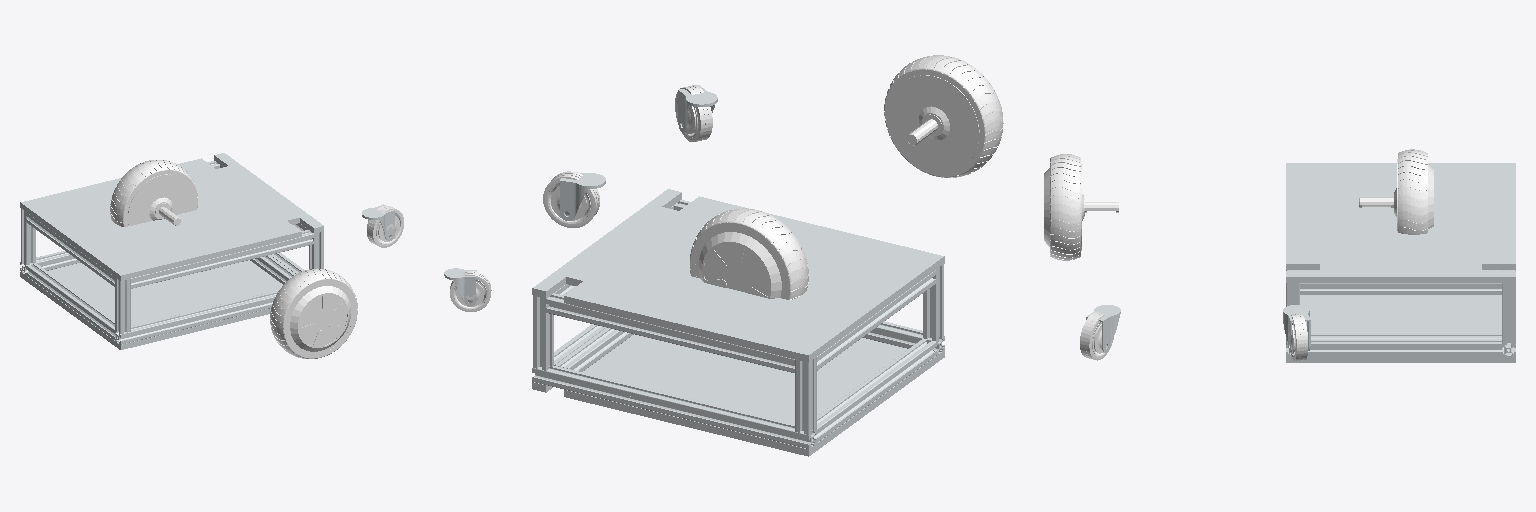
URDF robot description (blattoidea):
<?xml version="1.0" encoding="utf-8"?>
<!-- This URDF was automatically created by SolidWorks to URDF Exporter! Originally created by [author] ([email redacted]) 
     Commit Version: 1.5.1-0-g916b5db  Build Version: 1.5.7152.31018
     For more information, please see http://wiki.ros.org/sw_urdf_exporter -->
<robot
  name="blattoidea">
  <link
    name="base_link">
    <inertial>
      <origin
        xyz="0.14853 0.15935 0.29554"
        rpy="0 0 0" />
      <mass
        value="3.6045" />
      <inertia
        ixx="0.03397"
        ixy="-7.1688E-17"
        ixz="-7.1044E-18"
        iyy="0.080968"
        iyz="4.034E-18"
        izz="0.047057" />
    </inertial>
    <visual>
      <origin
        xyz="0 0 0"
        rpy="0 0 0" />
      <geometry>
        <mesh
          filename="package://blattoidea/meshes/base_link.STL" />
      </geometry>
      <material
        name="">
        <color
          rgba="0.89804 0.91765 0.92941 1" />
      </material>
    </visual>
    <collision>
      <origin
        xyz="0 0 0"
        rpy="0 0 0" />
      <geometry>
        <mesh
          filename="package://blattoidea/meshes/base_link.STL" />
      </geometry>
    </collision>
  </link>
  <link
    name="lw_Link">
    <inertial>
      <origin
        xyz="0.080855 -4.3044E-06 -5.8722E-06"
        rpy="0 0 0" />
      <mass
        value="0.97717" />
      <inertia
        ixx="0.0027567"
        ixy="-2.3115E-07"
        ixz="-3.1534E-07"
        iyy="0.0016171"
        iyz="1.6994E-08"
        izz="0.0016171" />
    </inertial>
    <visual>
      <origin
        xyz="0 0 0"
        rpy="0 0 0" />
      <geometry>
        <mesh
          filename="package://blattoidea/meshes/lw_Link.STL" />
      </geometry>
      <material
        name="">
        <color
          rgba="1 1 1 1" />
      </material>
    </visual>
    <collision>
      <origin
        xyz="0 0 0"
        rpy="0 0 0" />
      <geometry>
        <mesh
          filename="package://blattoidea/meshes/lw_Link.STL" />
      </geometry>
    </collision>
  </link>
  <joint
    name="lw_joint"
    type="continuous">
    <origin
      xyz="-0.0066026 -0.41814 0.15635"
      rpy="-2.8253 0 -1.5708" />
    <parent
      link="base_link" />
    <child
      link="lw_Link" />
    <axis
      xyz="1 0 0" />
  </joint>
  <link
    name="rw_Link">
    <inertial>
      <origin
        xyz="-0.030145 -6.8522E-14 -7.2809E-06"
        rpy="0 0 0" />
      <mass
        value="0.97717" />
      <inertia
        ixx="0.0027567"
        ixy="-1.0364E-14"
        ixz="-3.9098E-07"
        iyy="0.001617"
        iyz="4.59E-16"
        izz="0.0016171" />
    </inertial>
    <visual>
      <origin
        xyz="0 0 0"
        rpy="0 0 0" />
      <geometry>
        <mesh
          filename="package://blattoidea/meshes/rw_Link.STL" />
      </geometry>
      <material
        name="">
        <color
          rgba="1 1 1 1" />
      </material>
    </visual>
    <collision>
      <origin
        xyz="0 0 0"
        rpy="0 0 0" />
      <geometry>
        <mesh
          filename="package://blattoidea/meshes/rw_Link.STL" />
      </geometry>
    </collision>
  </link>
  <joint
    name="rw_joint"
    type="continuous">
    <origin
      xyz="-0.022603 -0.061936 0.15635"
      rpy="2.5982 0 1.5708" />
    <parent
      link="base_link" />
    <child
      link="rw_Link" />
    <axis
      xyz="1 0 0" />
  </joint>
  <link
    name="r_caster_Link">
    <inertial>
      <origin
        xyz="-1.9082E-08 0.042334 0.01609"
        rpy="0 0 0" />
      <mass
        value="0.026461" />
      <inertia
        ixx="1.1218E-05"
        ixy="6.255E-12"
        ixz="-3.2391E-12"
        iyy="9.1178E-06"
        iyz="2.5189E-06"
        izz="1.0862E-05" />
    </inertial>
    <visual>
      <origin
        xyz="0 0 0"
        rpy="0 0 0" />
      <geometry>
        <mesh
          filename="package://blattoidea/meshes/r_caster_Link.STL" />
      </geometry>
      <material
        name="">
        <color
          rgba="0.89804 0.91765 0.92941 1" />
      </material>
    </visual>
    <collision>
      <origin
        xyz="0 0 0"
        rpy="0 0 0" />
      <geometry>
        <mesh
          filename="package://blattoidea/meshes/r_caster_Link.STL" />
      </geometry>
    </collision>
  </link>
  <joint
    name="r_caster_joint"
    type="continuous">
    <origin
      xyz="0.3079 -0.15554 0.089119"
      rpy="1.5182 0 1.7592" />
    <parent
      link="base_link" />
    <child
      link="r_caster_Link" />
    <axis
      xyz="0 1 0" />
  </joint>
  <link
    name="rc_wheel_Link">
    <inertial>
      <origin
        xyz="-0.002 -3.7192E-15 -7.4385E-15"
        rpy="0 0 0" />
      <mass
        value="0.0499" />
      <inertia
        ixx="3.5408E-05"
        ixy="-9.8891E-20"
        ixz="-9.3385E-20"
        iyy="1.8462E-05"
        iyz="1.5617E-21"
        izz="1.8462E-05" />
    </inertial>
    <visual>
      <origin
        xyz="0 0 0"
        rpy="0 0 0" />
      <geometry>
        <mesh
          filename="package://blattoidea/meshes/rc_wheel_Link.STL" />
      </geometry>
      <material
        name="">
        <color
          rgba="1 1 1 1" />
      </material>
    </visual>
    <collision>
      <origin
        xyz="0 0 0"
        rpy="0 0 0" />
      <geometry>
        <mesh
          filename="package://blattoidea/meshes/rc_wheel_Link.STL" />
      </geometry>
    </collision>
  </link>
  <joint
    name="rc_wheel_joint"
    type="continuous">
    <origin
      xyz="-0.002 0.010904 0.025608"
      rpy="2.3039 0 3.1416" />
    <parent
      link="r_caster_Link" />
    <child
      link="rc_wheel_Link" />
    <axis
      xyz="1 0 0" />
  </joint>
  <link
    name="l_caster_Link">
    <inertial>
      <origin
        xyz="-1.597E-08 0.042334 0.01609"
        rpy="0 0 0" />
      <mass
        value="0.026461" />
      <inertia
        ixx="1.1218E-05"
        ixy="3.1588E-12"
        ixz="-6.9764E-13"
        iyy="9.1178E-06"
        iyz="2.5189E-06"
        izz="1.0862E-05" />
    </inertial>
    <visual>
      <origin
        xyz="0 0 0"
        rpy="0 0 0" />
      <geometry>
        <mesh
          filename="package://blattoidea/meshes/l_caster_Link.STL" />
      </geometry>
      <material
        name="">
        <color
          rgba="0.89804 0.91765 0.92941 1" />
      </material>
    </visual>
    <collision>
      <origin
        xyz="0 0 0"
        rpy="0 0 0" />
      <geometry>
        <mesh
          filename="package://blattoidea/meshes/l_caster_Link.STL" />
      </geometry>
    </collision>
  </link>
  <joint
    name="l_caster_joint"
    type="continuous">
    <origin
      xyz="0.3079 -0.43554 0.089119"
      rpy="1.5182 0 1.0025" />
    <parent
      link="base_link" />
    <child
      link="l_caster_Link" />
    <axis
      xyz="0 1 0" />
  </joint>
  <link
    name="lc_wheel_Link">
    <inertial>
      <origin
        xyz="-0.002 0 -4.1633E-17"
        rpy="0 0 0" />
      <mass
        value="0.0499" />
      <inertia
        ixx="3.5408E-05"
        ixy="2.8799E-20"
        ixz="-1.9058E-21"
        iyy="1.8462E-05"
        iyz="2.647E-21"
        izz="1.8462E-05" />
    </inertial>
    <visual>
      <origin
        xyz="0 0 0"
        rpy="0 0 0" />
      <geometry>
        <mesh
          filename="package://blattoidea/meshes/lc_wheel_Link.STL" />
      </geometry>
      <material
        name="">
        <color
          rgba="1 1 1 1" />
      </material>
    </visual>
    <collision>
      <origin
        xyz="0 0 0"
        rpy="0 0 0" />
      <geometry>
        <mesh
          filename="package://blattoidea/meshes/lc_wheel_Link.STL" />
      </geometry>
    </collision>
  </link>
  <joint
    name="lc_wheel_joint"
    type="continuous">
    <origin
      xyz="-0.002 0.010904 0.025608"
      rpy="-1.5211 0 -3.1416" />
    <parent
      link="l_caster_Link" />
    <child
      link="lc_wheel_Link" />
    <axis
      xyz="1 0 0" />
  </joint>
</robot>

--- Facts derived from the render (not from the file) ---
Views: 3 orthographic renders of the robot side by side, from view 1: azimuth 30°, elevation 25°; view 2: azimuth 150°, elevation 25°; view 3: azimuth 270°, elevation 25°.
Model blattoidea with 7 links and 6 joints (6 continuous), rooted at base_link, posed all joints at 0.
Links seen in each view (by area): view 1: base_link, lw_Link, rw_Link, lc_wheel_Link, rc_wheel_Link, l_caster_Link, r_caster_Link; view 2: base_link, lw_Link, rw_Link, rc_wheel_Link, r_caster_Link, lc_wheel_Link, l_caster_Link; view 3: base_link, lw_Link, rw_Link, lc_wheel_Link, rc_wheel_Link, l_caster_Link, r_caster_Link.
Link boxes in pixels (bbox=[...]): base_link: bbox=[20, 153, 323, 349]; lw_Link: bbox=[270, 269, 357, 358]; rw_Link: bbox=[110, 160, 197, 226]; lc_wheel_Link: bbox=[450, 271, 491, 311]; rc_wheel_Link: bbox=[367, 206, 403, 247]; l_caster_Link: bbox=[444, 268, 476, 306]; r_caster_Link: bbox=[362, 204, 394, 240]; base_link: bbox=[532, 189, 944, 456]; lw_Link: bbox=[884, 55, 1003, 177]; rw_Link: bbox=[690, 208, 808, 299]; rc_wheel_Link: bbox=[543, 172, 599, 227]; r_caster_Link: bbox=[560, 171, 605, 220]; lc_wheel_Link: bbox=[675, 85, 712, 141]; l_caster_Link: bbox=[678, 85, 717, 132]; base_link: bbox=[1286, 163, 1515, 362]; lw_Link: bbox=[1044, 154, 1118, 260]; rw_Link: bbox=[1359, 149, 1433, 234]; lc_wheel_Link: bbox=[1080, 312, 1113, 360]; rc_wheel_Link: bbox=[1288, 314, 1307, 361]; l_caster_Link: bbox=[1086, 305, 1120, 352]; r_caster_Link: bbox=[1283, 305, 1310, 351].
Size in the robot's own frame: 0.5657 by 0.6991 by 0.2357 metres.
Meshes: 7 distinct files referenced, 7 mesh visuals loaded (7 binary STL).